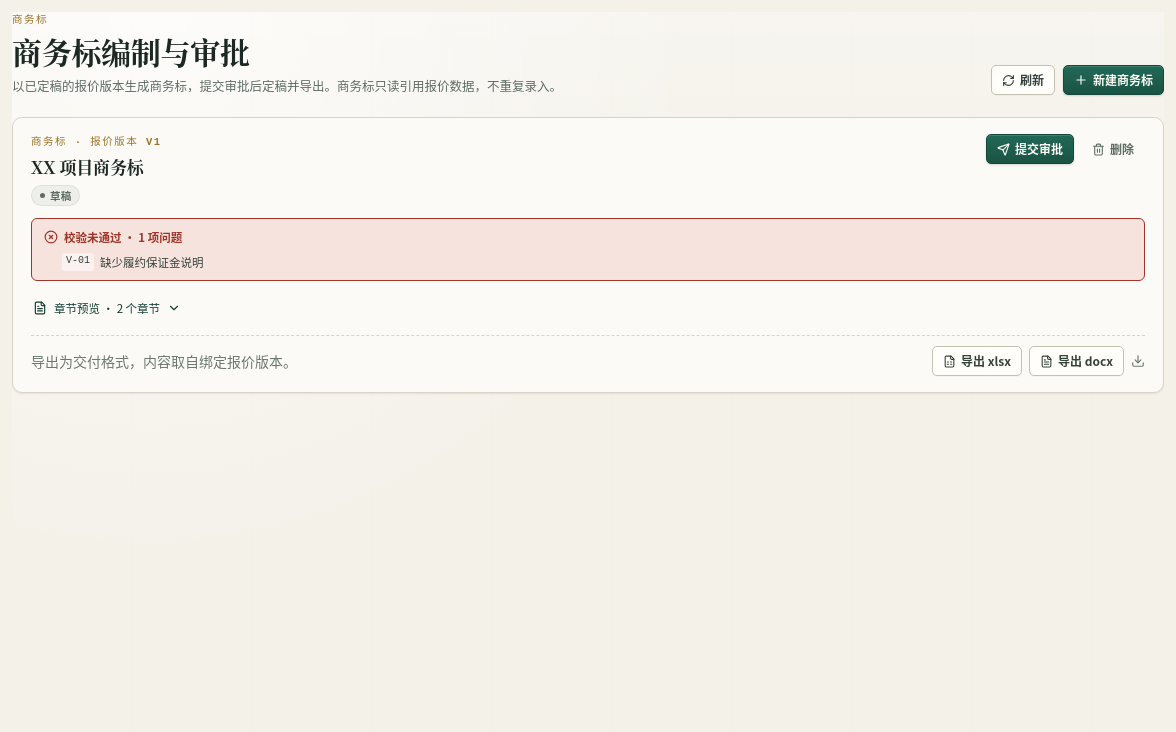
Test: CommercialTab › renders document status, validation issues and section preview
This screenshot has width=1176, height=732.
Expected: the heading "XX 项目商务标" is shown, [31,153,161,180]
Expected: the text "草稿" is shown, [31,185,80,206]
Click the button "章节预览 · 2 个章节": (107, 308) [31,293,183,323]
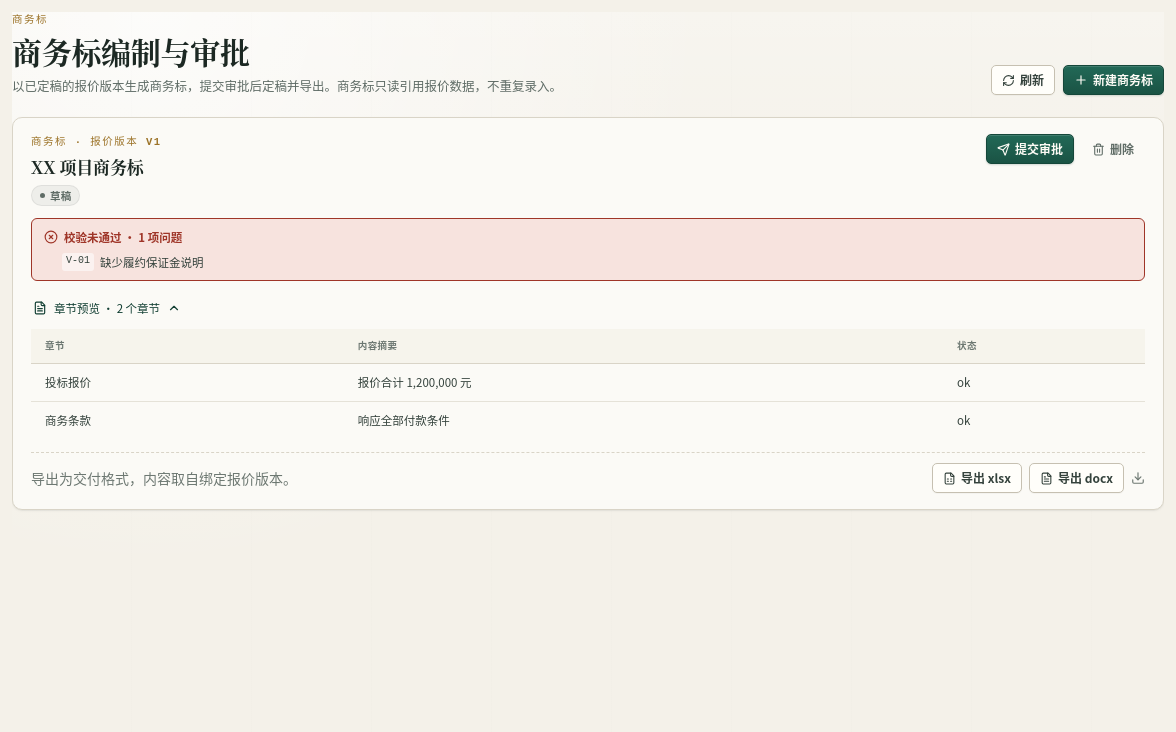
Now the text "投标报价" is shown, box [31,363,344,402]
Now the text "报价合计 1,200,000 元" is shown, box [344,363,943,402]
